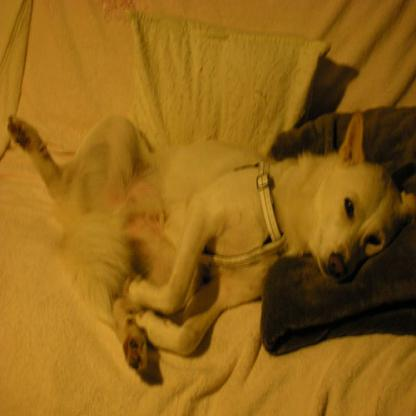dog: (5, 110, 415, 369)
